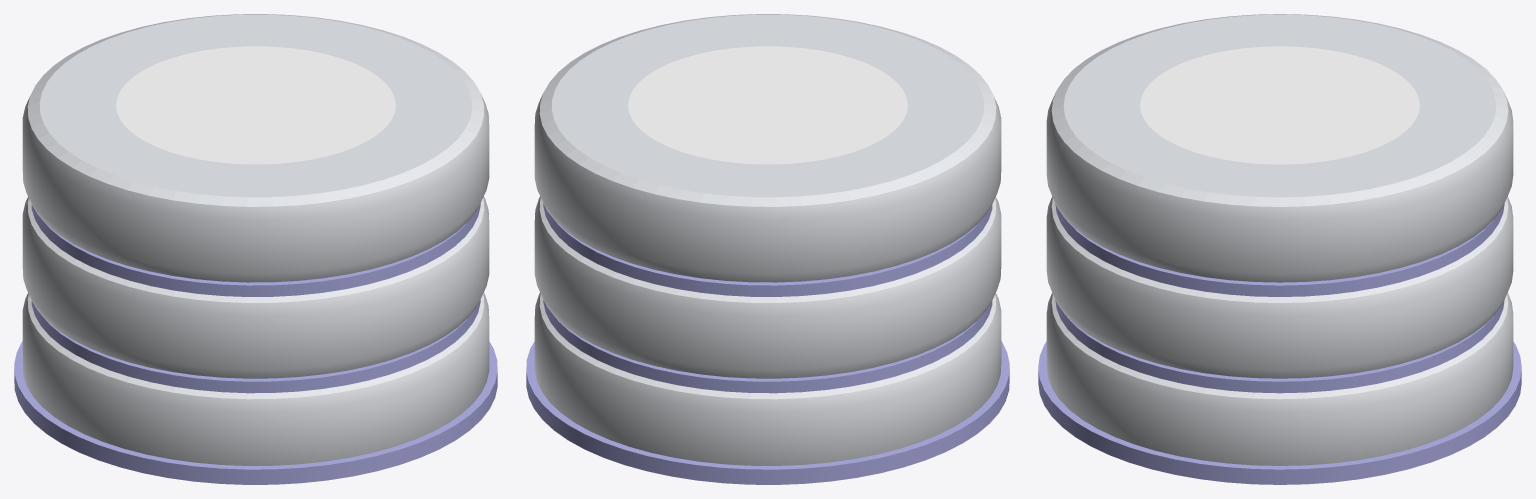
File: database.glb
The picture shows the model from 3 angles, left to right: view 1: azimuth 30°, elevation 25°; view 2: azimuth 150°, elevation 25°; view 3: azimuth 270°, elevation 25°; orthographic projection.
Parts seen in each view (by area): view 1: db_disk2, db_disk1, db_disk0, db_logo, db_ring0, db_ring1, db_ring2; view 2: db_disk2, db_disk1, db_disk0, db_logo, db_ring0, db_ring1, db_ring2; view 3: db_disk2, db_disk1, db_disk0, db_logo, db_ring0, db_ring1, db_ring2.
Part boxes in pixels (box(x1,y1,x2,y2)): db_disk2: box(22, 14, 489, 282); db_disk1: box(22, 196, 489, 378); db_disk0: box(22, 292, 489, 465); db_logo: box(116, 46, 395, 164); db_ring0: box(14, 341, 497, 484); db_ring1: box(31, 299, 480, 393); db_ring2: box(31, 203, 480, 296); db_disk2: box(534, 14, 1001, 282); db_disk1: box(534, 196, 1001, 378); db_disk0: box(534, 292, 1001, 465); db_logo: box(628, 46, 907, 164); db_ring0: box(526, 341, 1009, 484); db_ring1: box(543, 299, 992, 393); db_ring2: box(543, 203, 992, 296); db_disk2: box(1046, 14, 1513, 282); db_disk1: box(1046, 196, 1513, 378); db_disk0: box(1046, 293, 1513, 465); db_logo: box(1140, 46, 1419, 164); db_ring0: box(1038, 341, 1521, 484); db_ring1: box(1055, 300, 1504, 393); db_ring2: box(1055, 204, 1504, 296).
Bounding box in the file's own units: 1.14 × 0.7215 × 1.14.
